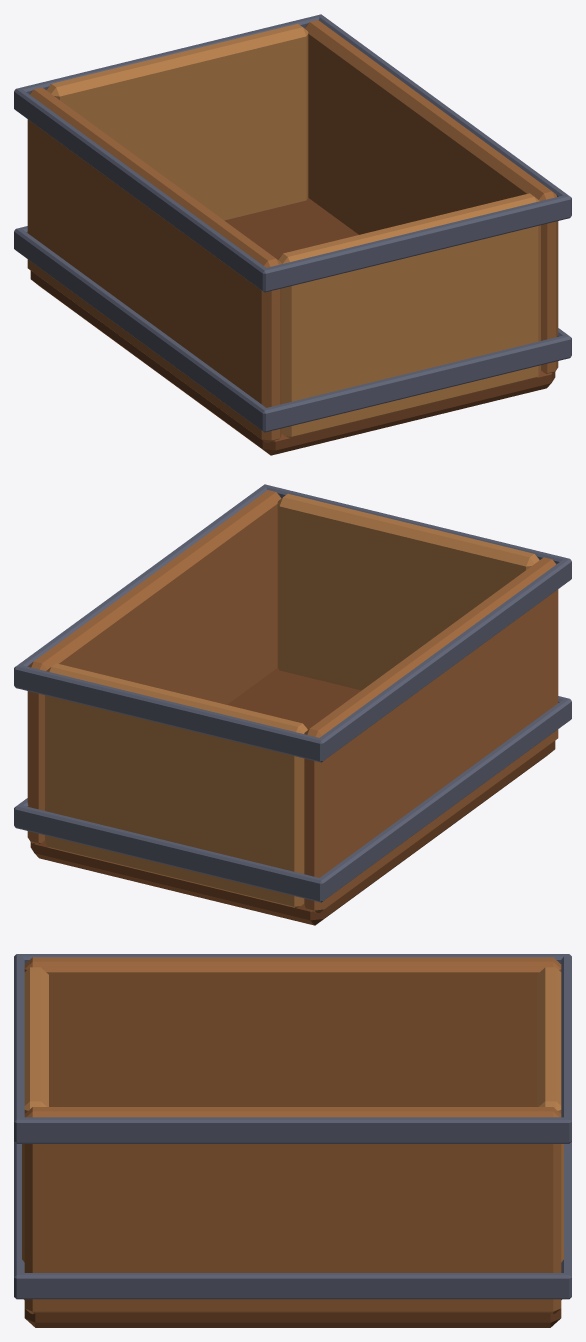
Rendered from vagone_cassone.glb.
The picture shows the model from 3 angles, top to bottom: view 1: azimuth 30°, elevation 25°; view 2: azimuth 150°, elevation 25°; view 3: azimuth 270°, elevation 25°; orthographic projection. The views are drawn at different scales.
Parts seen in each view (by area): view 1: vagone_cassone2; view 2: vagone_cassone2; view 3: vagone_cassone2.
Boxes of the visible parts, x1,y1,x2,y2 form: vagone_cassone2: (14,14,571,455); vagone_cassone2: (14,484,571,925); vagone_cassone2: (14,954,571,1327).
Bounding box in the file's own units: 0.74 × 0.45 × 1.04.
